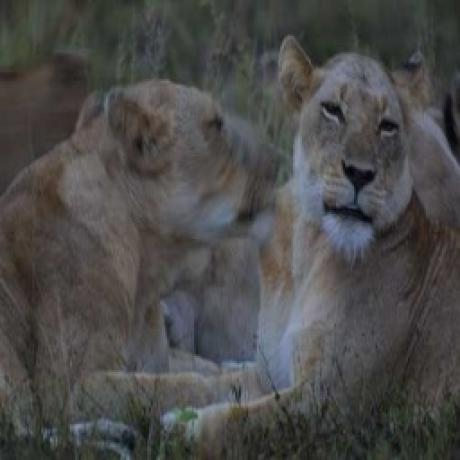Lion: (0, 75, 284, 435), (253, 34, 460, 410)
